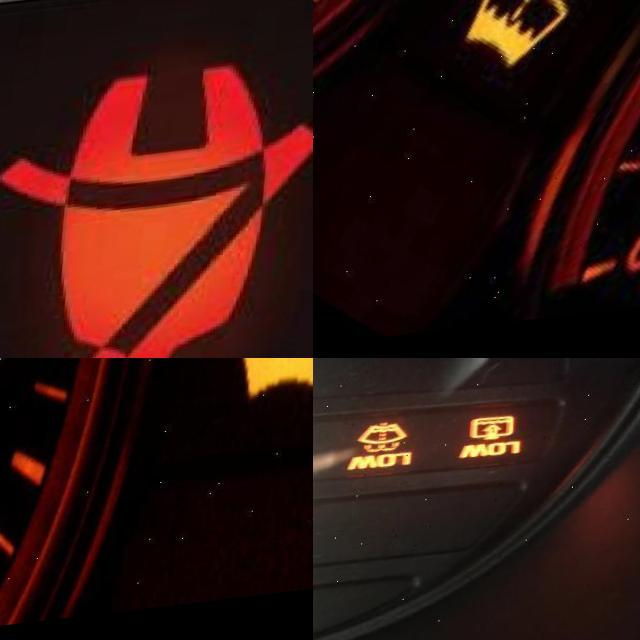Seat Belt: (0, 68, 313, 358)
Washer Fluid: (467, 0, 590, 79), (358, 425, 414, 463)
